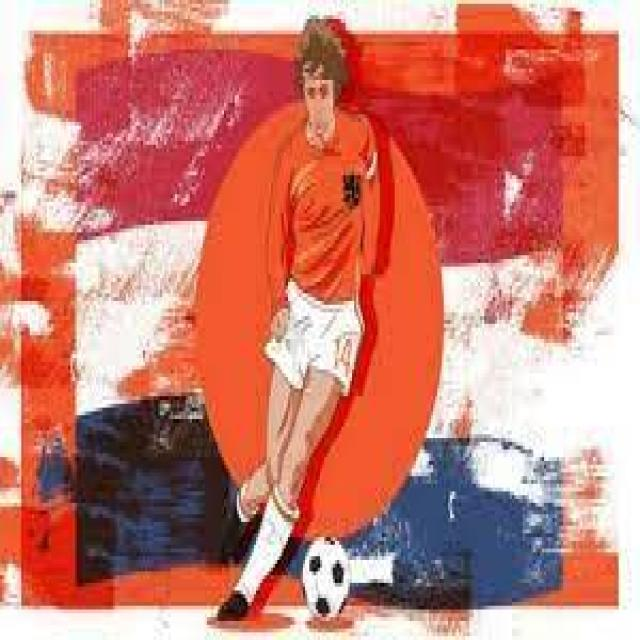ball: (302, 536, 350, 620)
